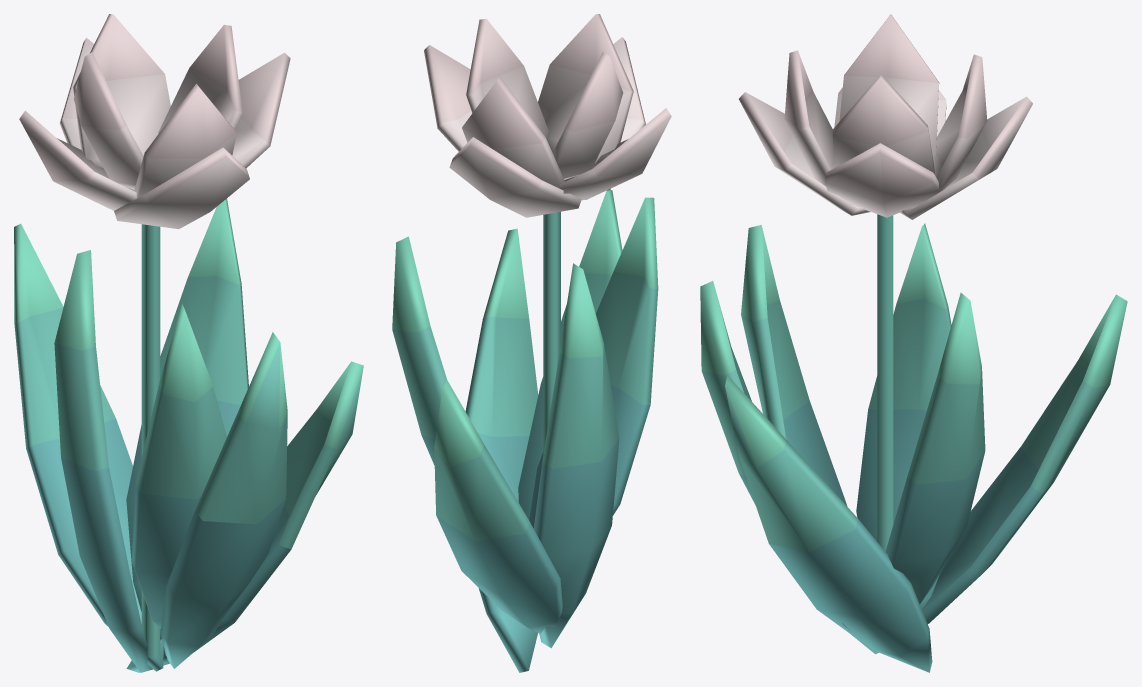
The model's file is liliy_white.glb.
3 renders of one model, left to right at view 1: azimuth 30°, elevation 25°; view 2: azimuth 150°, elevation 25°; view 3: azimuth 270°, elevation 25°, orthographic. The views are drawn at different scales.
Parts seen in each view (by area): view 1: Liliy_White.001; view 2: Liliy_White.001; view 3: Liliy_White.001.
Part boxes in pixels (x1=…): Liliy_White.001: x1=14, y1=14, x2=363, y2=672; Liliy_White.001: x1=392, y1=14, x2=671, y2=672; Liliy_White.001: x1=700, y1=14, x2=1127, y2=672.
Size of the model in its own units: 0.2341 by 0.5495 by 0.3396.
